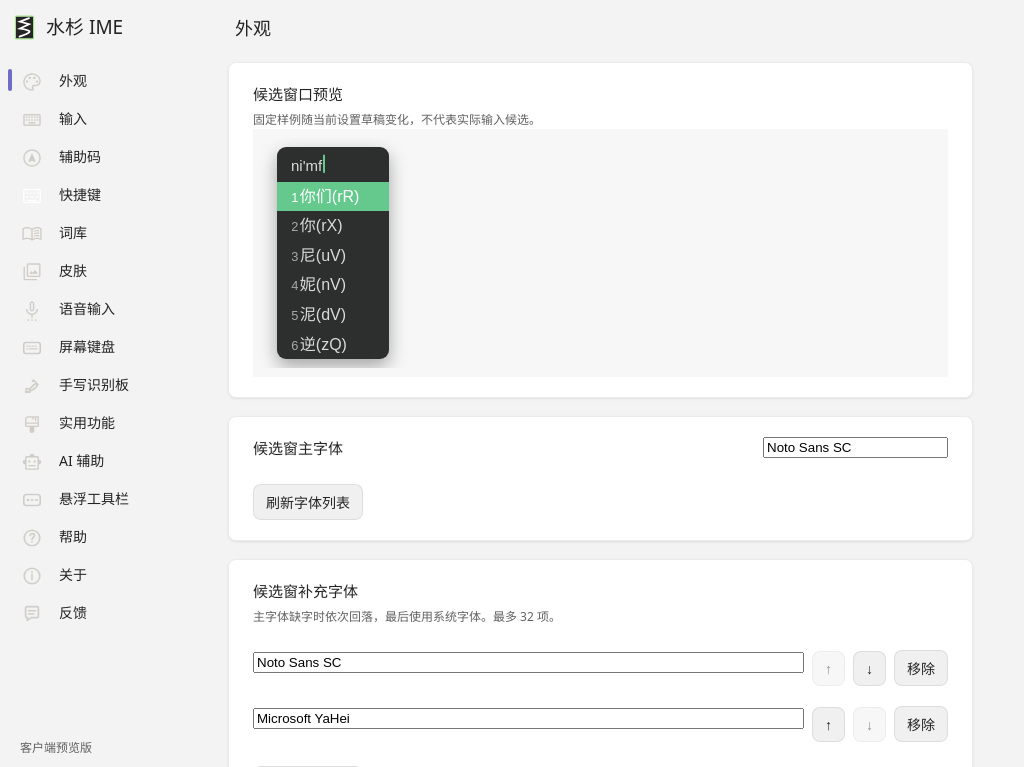
large catalogs bound visible options without losing searchable entries
The image size is (1024, 767).
Focus the dropdown named "候选窗主字体". click: {"x": 856, "y": 448}
box: x1=763 y1=437 x2=948 y2=458
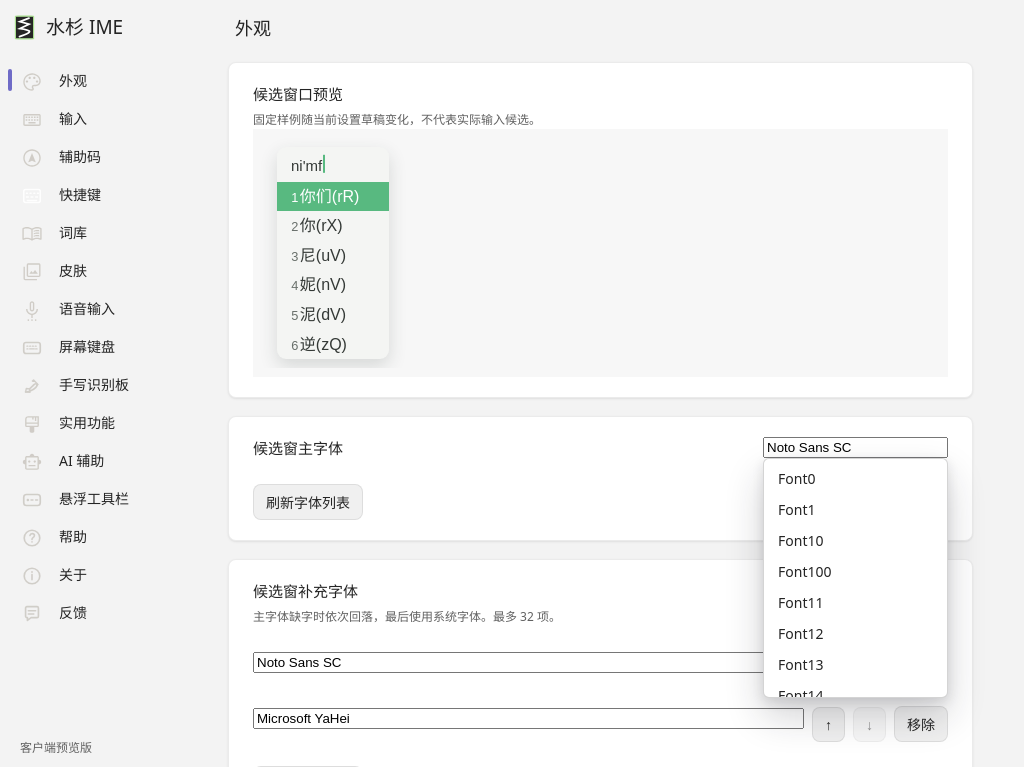
Replace the text in the dropdown named "候选窗主字体" with "Font100". click: {"x": 856, "y": 448}
box: x1=763 y1=437 x2=948 y2=458
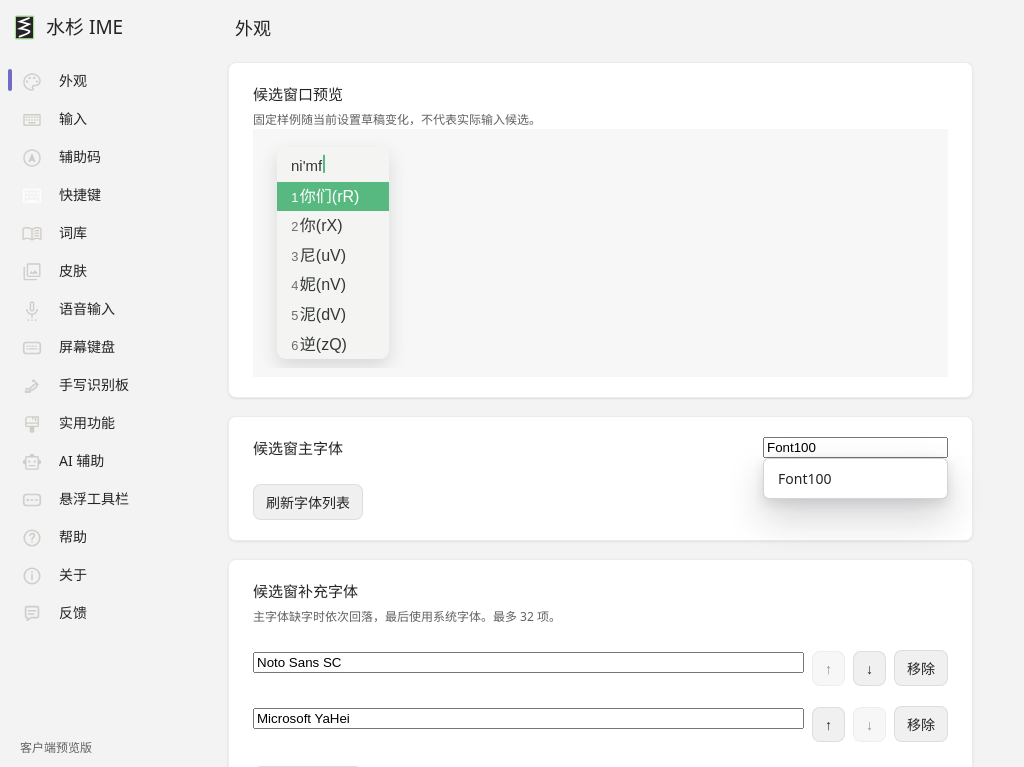
Check: the number of options is 1, box x1=778 y1=469 x2=832 y2=488
